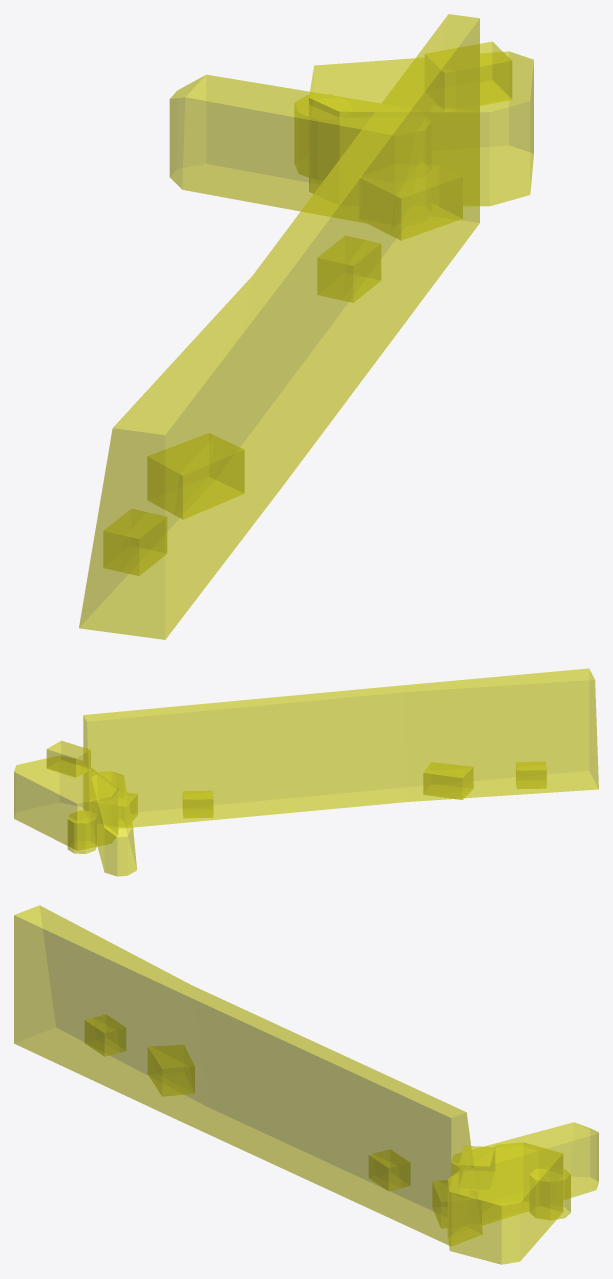
Rendered from SM_Obstacle_06_Collision.fbx.
3 renders of one model, top to bottom at view 1: azimuth 30°, elevation 25°; view 2: azimuth 150°, elevation 25°; view 3: azimuth 270°, elevation 25°, orthographic. The views are drawn at different scales.
Parts seen in each view (by area): view 1: Obstacle_06_Collision; view 2: Obstacle_06_Collision; view 3: Obstacle_06_Collision.
Boxes of the visible parts, x1=… form: Obstacle_06_Collision: x1=79, y1=14, x2=533, y2=639; Obstacle_06_Collision: x1=14, y1=668, x2=598, y2=876; Obstacle_06_Collision: x1=14, y1=905, x2=598, y2=1264.
Size of the model in its own units: 791 by 191 by 788.
